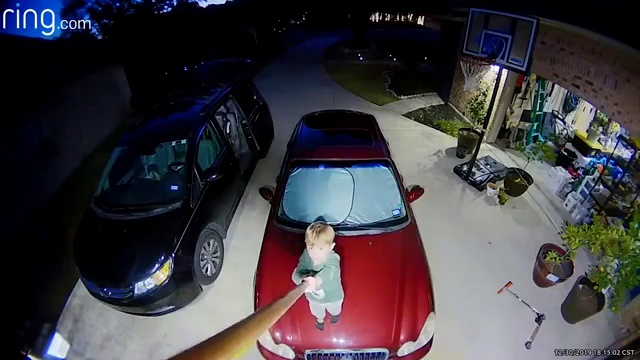face: (304, 240, 332, 263)
